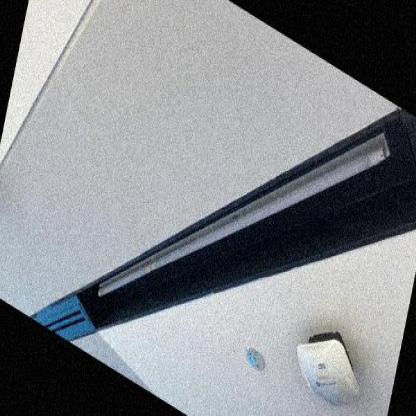light_off: (88, 0, 397, 415)
